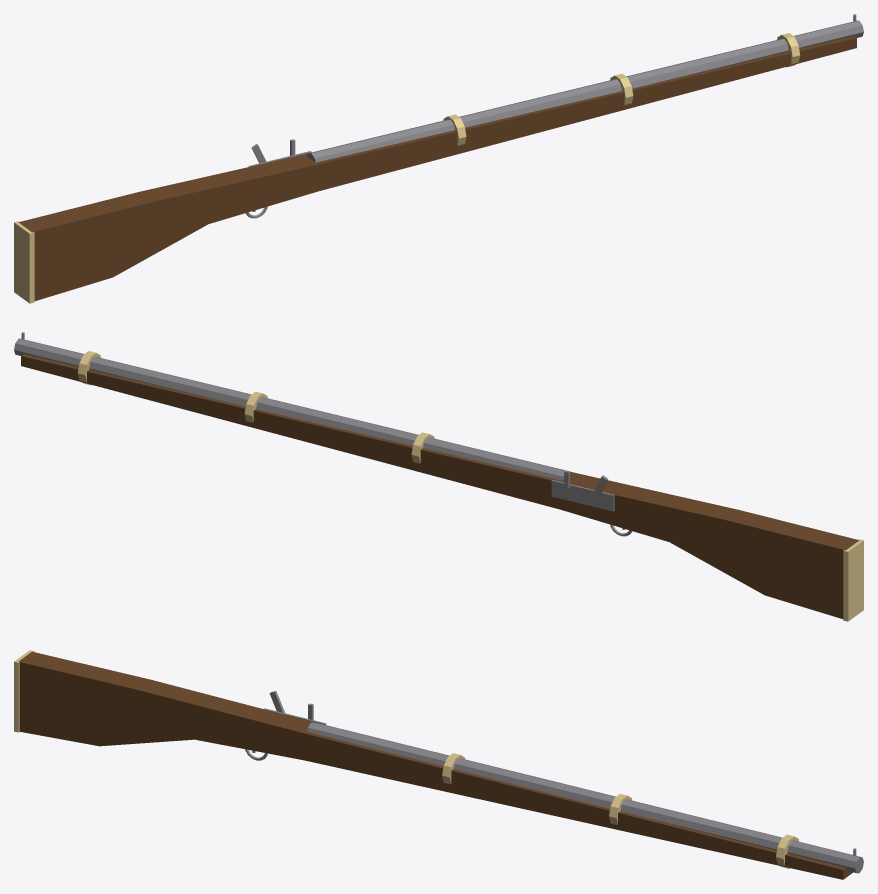
Rendered from jazayer_musket.glb.
3 views of the same model, one above another, from view 1: azimuth 30°, elevation 25°; view 2: azimuth 150°, elevation 25°; view 3: azimuth 330°, elevation 25° (orthographic).
Visible parts, largest first — view 1: Jazayer_Musket; view 2: Jazayer_Musket; view 3: Jazayer_Musket.
Boxes of the visible parts, box(x1,y1,x2,y2) form: Jazayer_Musket: box(14, 14, 863, 303); Jazayer_Musket: box(14, 332, 863, 621); Jazayer_Musket: box(14, 650, 863, 879).
Size of the model in its own units: 1.76 by 0.1748 by 0.0665.
Materials: 3 (1 with a texture image).
